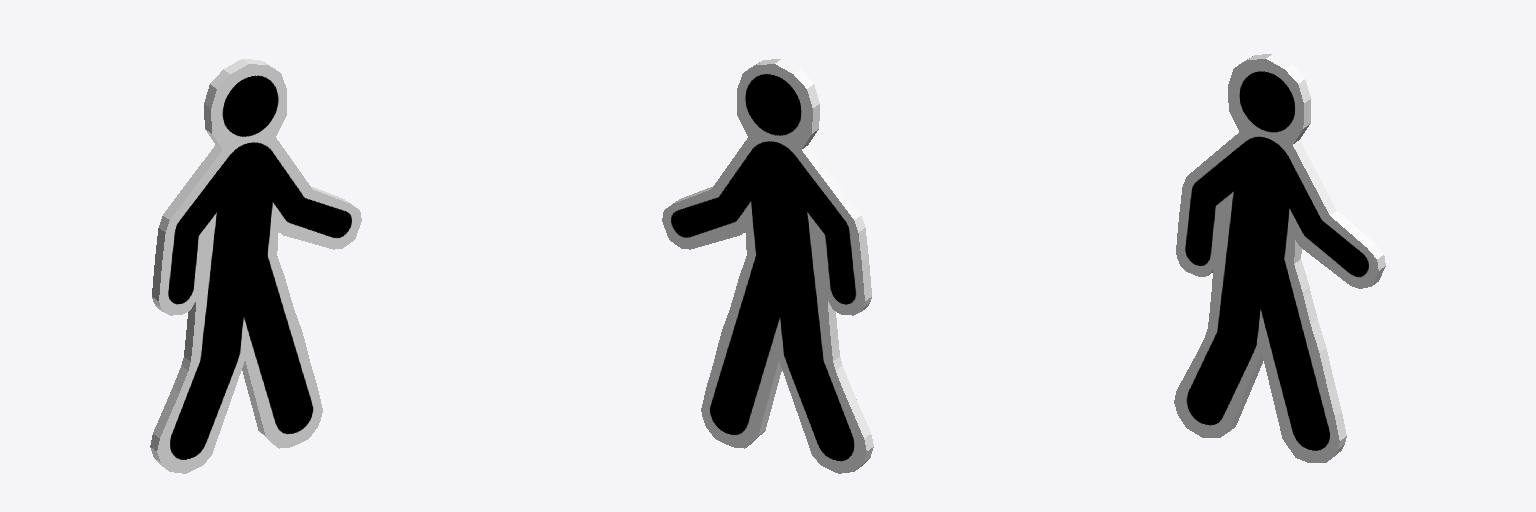
3 views of the same model, side by side, from view 1: azimuth 30°, elevation 25°; view 2: azimuth 150°, elevation 25°; view 3: azimuth 330°, elevation 25° (orthographic).
Visible parts, largest first — view 1: Cube.000_Cube.002; view 2: Cube.000_Cube.002; view 3: Cube.000_Cube.002.
Part boxes in pixels (x1,y1,x2,y2): Cube.000_Cube.002: (150, 59, 361, 473); Cube.000_Cube.002: (662, 59, 873, 473); Cube.000_Cube.002: (1174, 54, 1385, 462).
Size of the model in its own units: 0.0942 by 0.1734 by 0.0057.
1 materials, 1 textured.